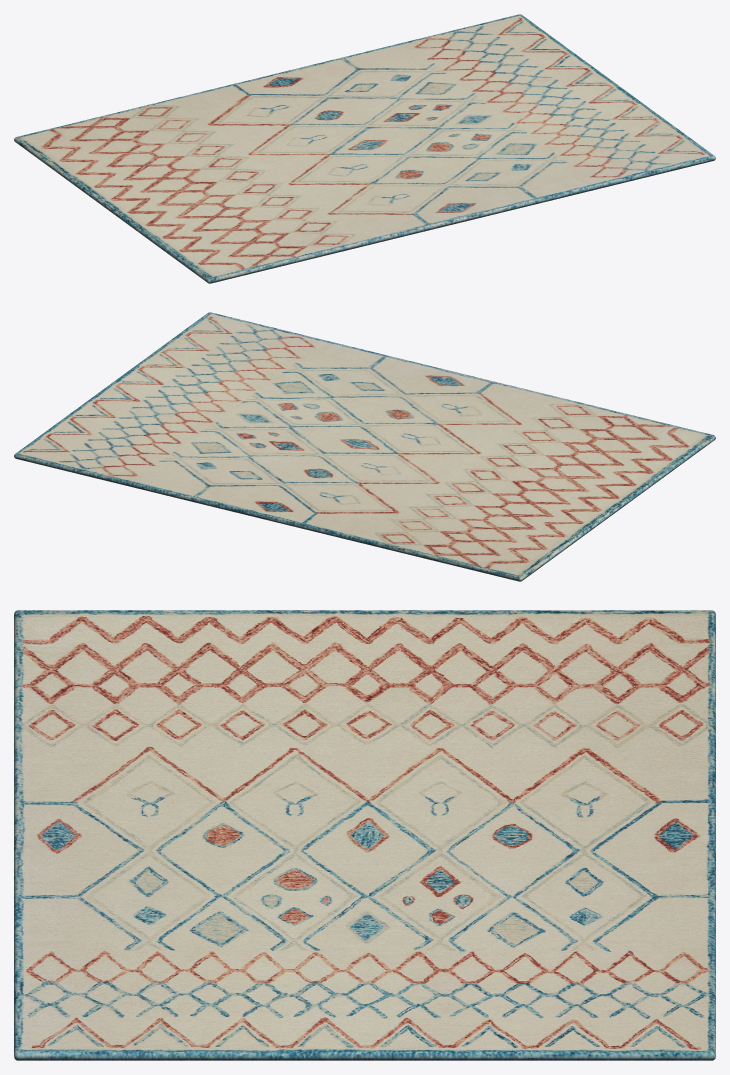
File: rug-diamond.glb
The picture shows the model from 3 angles, top to bottom: view 1: azimuth 30°, elevation 25°; view 2: azimuth 150°, elevation 25°; view 3: azimuth 270°, elevation 25°; orthographic projection. The views are drawn at different scales.
Visible parts, largest first — view 1: RootNode; view 2: RootNode; view 3: RootNode.
Part boxes in pixels (left/top/right/bottom): RootNode: left=14, top=14, right=715, bottom=283; RootNode: left=14, top=312, right=715, bottom=581; RootNode: left=14, top=610, right=715, bottom=1060.
Size of the model in its own units: 1.83 by 0.0158 by 1.22.
1 material, 1 textured.
